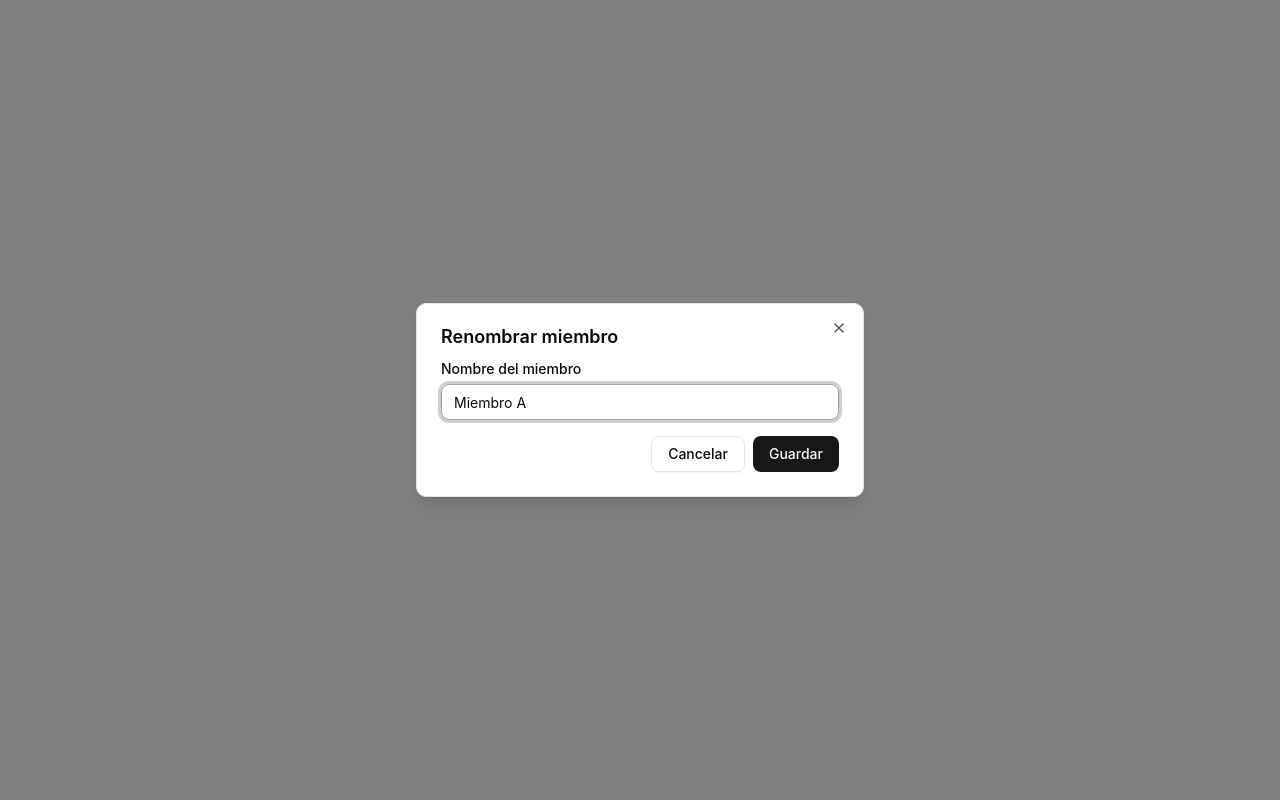
Test: RenameMemberDialog › en error muestra el mensaje con role=alert y conserva el nombre tecleado (SC-004)
Replace the text in the field labelled "Nombre del miembro" with "ISMA" at point(640, 402), box x1=441 y1=384 x2=839 y2=420
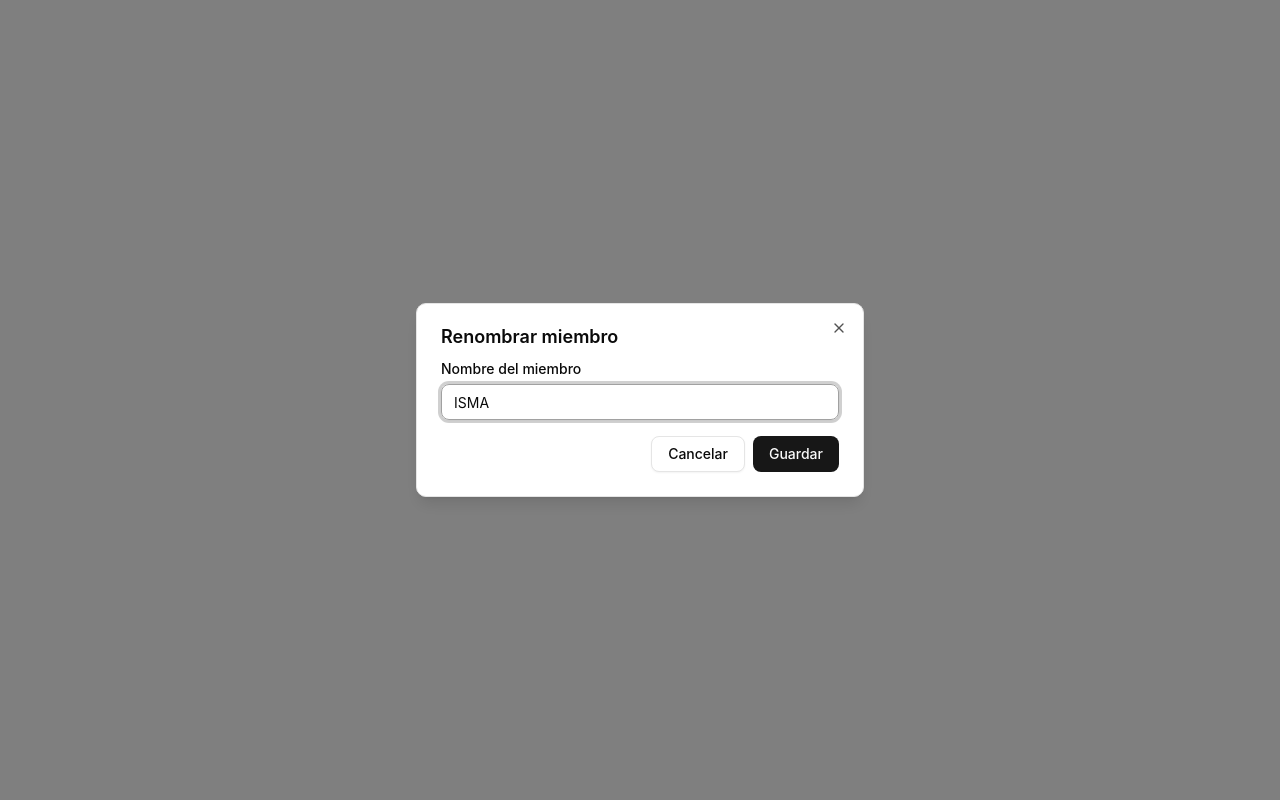
Click the button "Guardar" at point(796, 454), box x1=753 y1=436 x2=839 y2=472
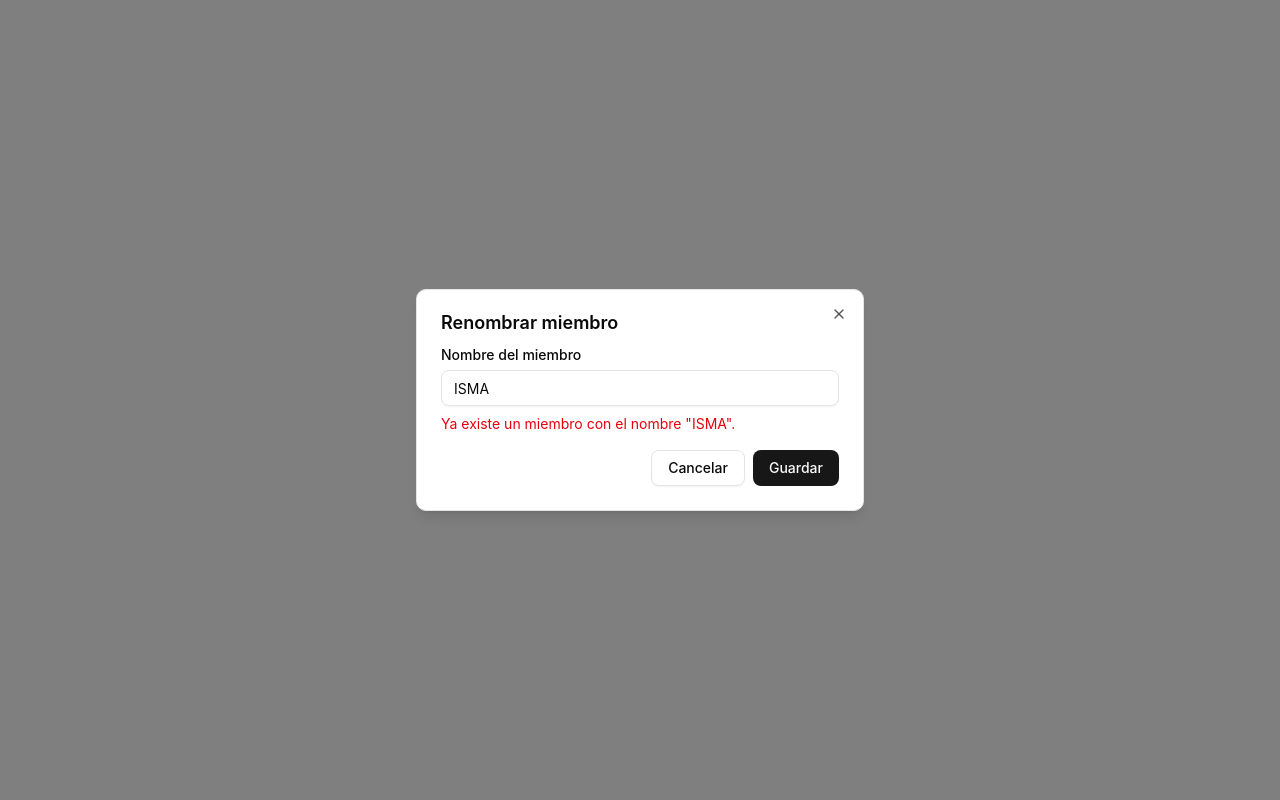
Expected: the message reads "Ya existe un miembro con el nombre \"ISMA\".", x1=441 y1=415 x2=735 y2=432
